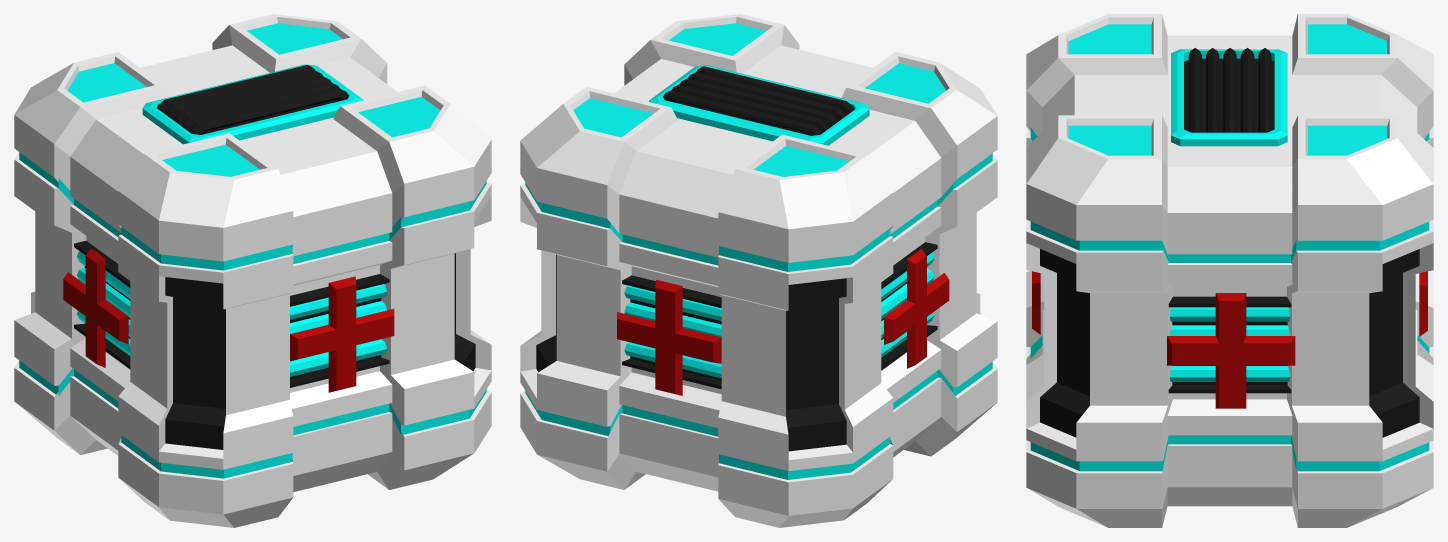
Rendered from Health_Pickup.fbx.
3 views of the same model, side by side, from view 1: azimuth 30°, elevation 25°; view 2: azimuth 150°, elevation 25°; view 3: azimuth 270°, elevation 25° (orthographic). The views are drawn at different scales.
Parts seen in each view (by area): view 1: Props_Crate, Details_X (×2); view 2: Props_Crate, Details_X (×2); view 3: Props_Crate, Details_X (×3).
Boxes of the visible parts, x1,y1,x2,y2 form: Props_Crate: [14, 14, 491, 527]; Details_X (×2): [63, 248, 394, 392]; Props_Crate: [520, 14, 997, 527]; Details_X (×2): [617, 249, 949, 395]; Props_Crate: [1026, 14, 1433, 527]; Details_X (×3): [1032, 271, 1427, 408].
Size of the model in its own units: 7.97 by 8.06 by 7.97.
